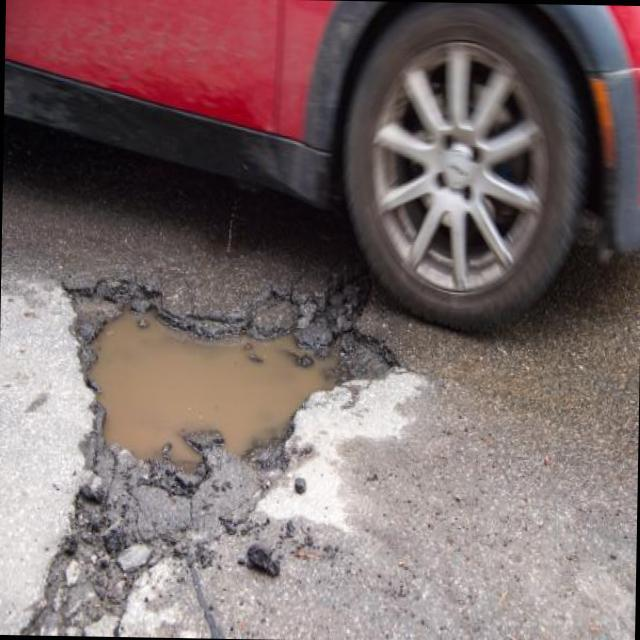Pothole: (56, 276, 360, 490)
